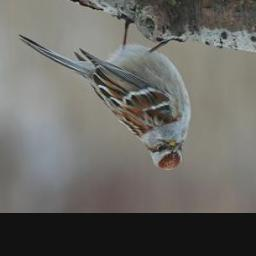Sparrow: (16, 14, 188, 173)
